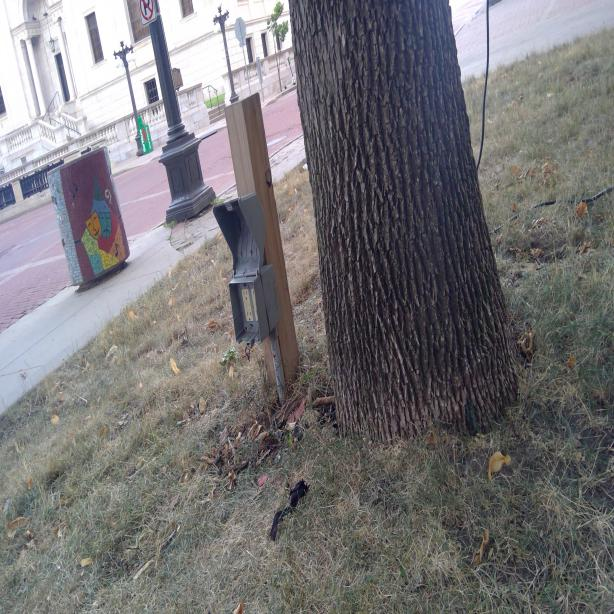typeb: (241, 287, 250, 304), (244, 308, 253, 324)
